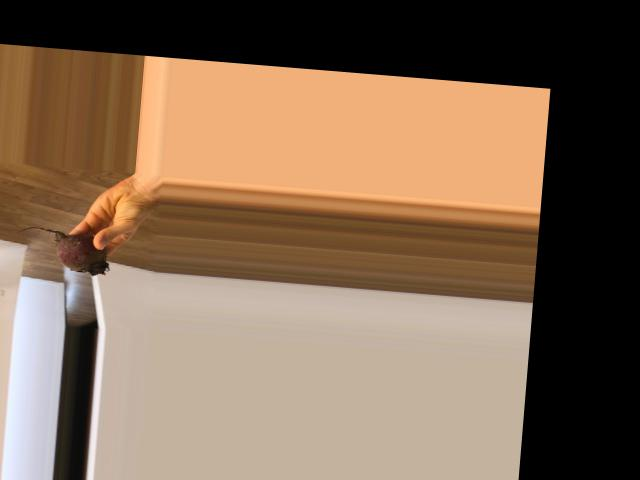beet: (15, 225, 111, 276)
